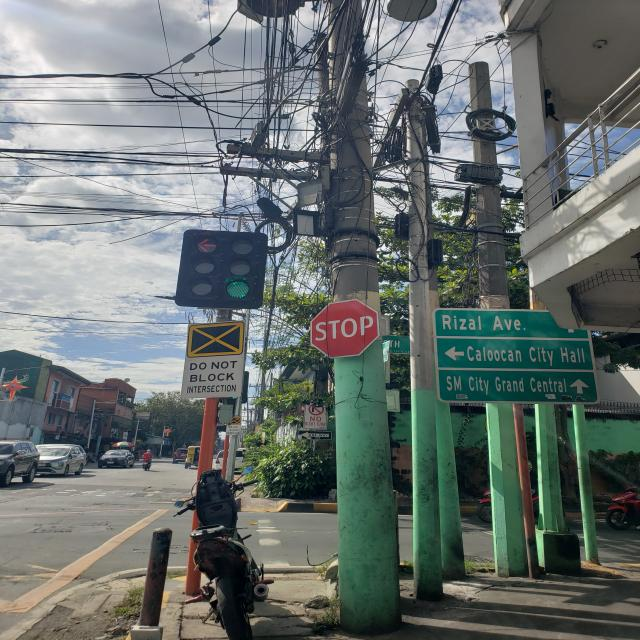stop-sign: (310, 298, 380, 359)
